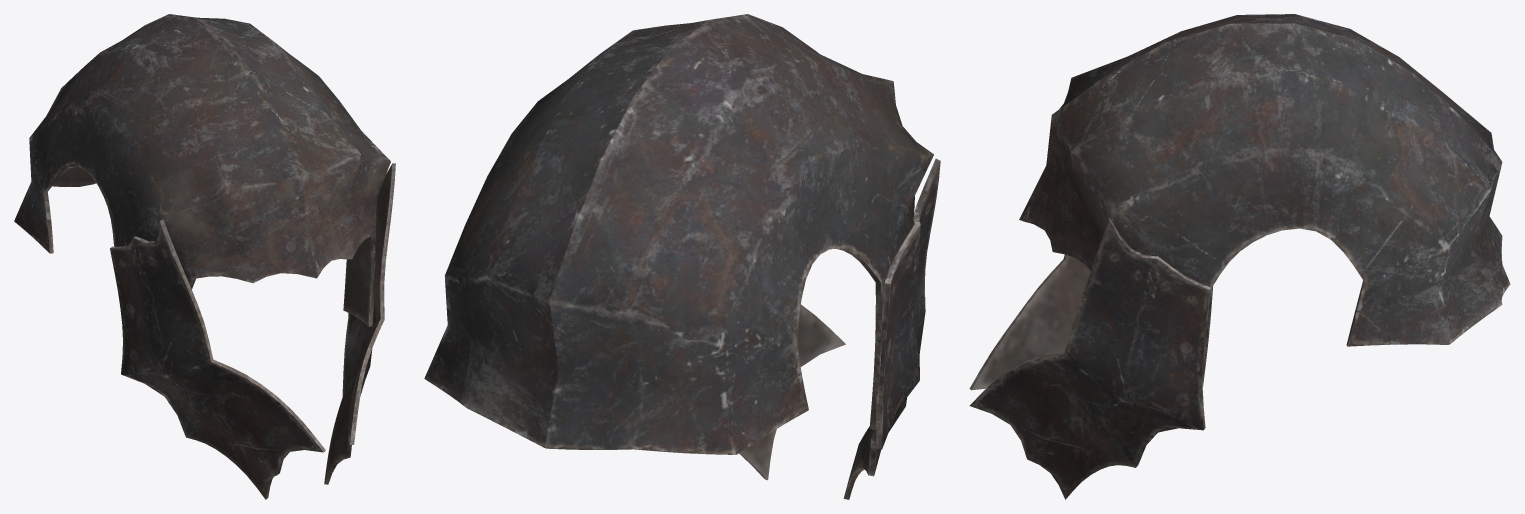
The model's file is sk_dg_uruk_helmet_med_f.fbx.
3 renders of one model, left to right at view 1: azimuth 30°, elevation 25°; view 2: azimuth 150°, elevation 25°; view 3: azimuth 270°, elevation 25°, orthographic. The views are drawn at different scales.
Parts seen in each view (by area): view 1: sk_dg_uruk_helmet_med_f; view 2: sk_dg_uruk_helmet_med_f; view 3: sk_dg_uruk_helmet_med_f.
Boxes of the visible parts, left/top/right/bottom form: sk_dg_uruk_helmet_med_f: left=14, top=14, right=395, bottom=499; sk_dg_uruk_helmet_med_f: left=424, top=14, right=940, bottom=499; sk_dg_uruk_helmet_med_f: left=969, top=14, right=1510, bottom=499.
Bounding box in the file's own units: 0.2011 × 0.3301 × 0.3089.
Materials: 1 (1 with a texture image).
